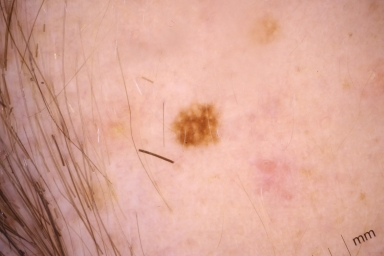melanoma: (167, 102, 222, 149), (74, 175, 116, 212), (243, 16, 287, 47)
